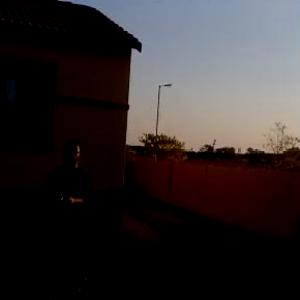follow: (37, 132, 103, 299)
